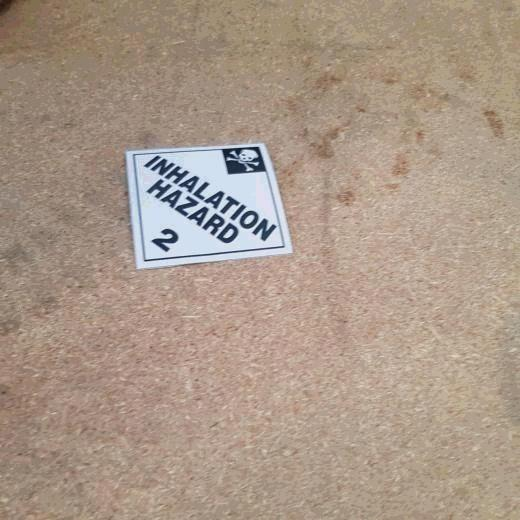poison: (125, 142, 295, 269)
